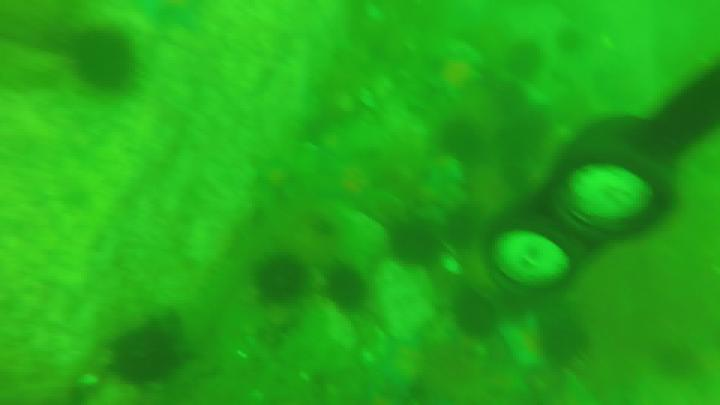echinus: (114, 325, 186, 384), (74, 28, 136, 94), (538, 315, 588, 366), (255, 255, 309, 302), (392, 218, 435, 267), (320, 266, 368, 309), (496, 131, 531, 188), (457, 291, 502, 335), (437, 122, 483, 164), (507, 42, 551, 78), (498, 77, 536, 117), (522, 106, 554, 151), (453, 215, 479, 253)
starfish: (367, 336, 431, 405)
